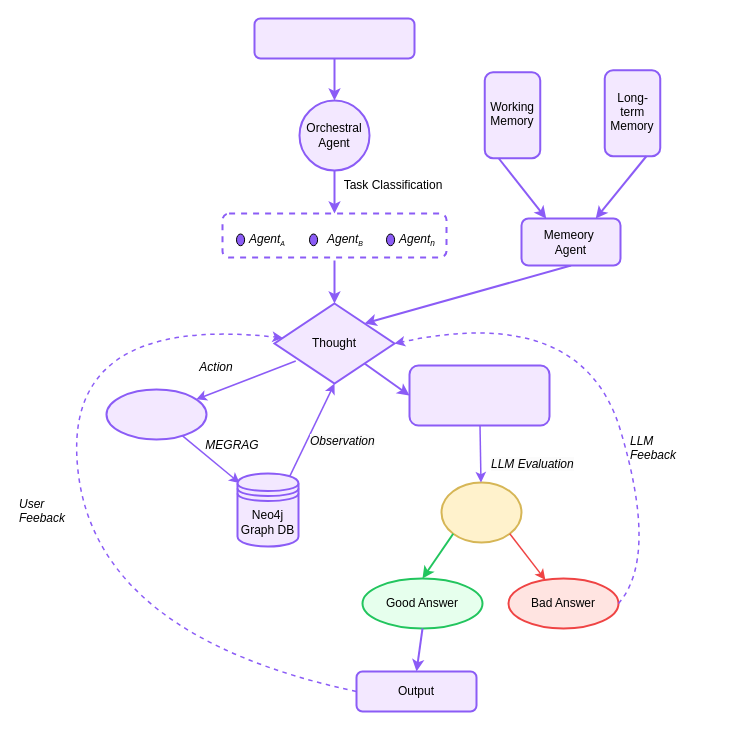
Some shapes in this 751 by 729 pixel diagram are drawn without their labels. The shapes that lost their labels are listed below. From the top down, each one's centre as x and y in pixels, then its label:
At (x=334, y=38): "User Input".
At (x=156, y=414): "Tools".
At (x=479, y=395): "Possible Answer".
At (x=481, y=512): "DEANLLM".
